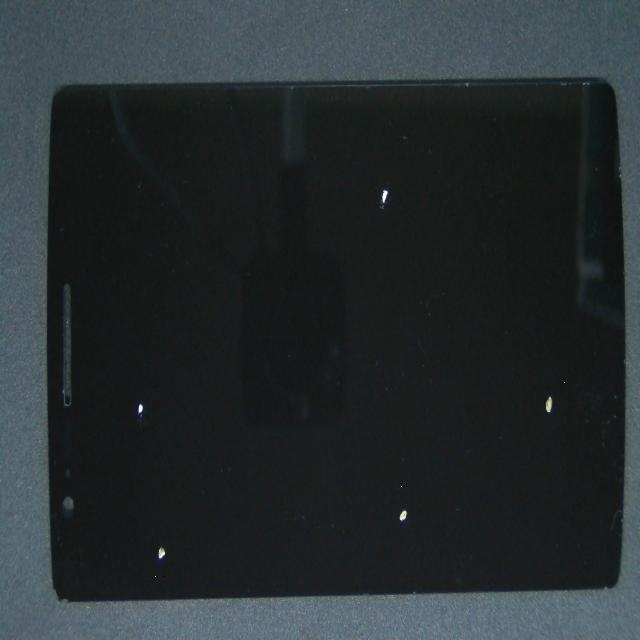stain: (181, 198, 582, 640), (239, 188, 640, 622), (55, 193, 200, 640), (88, 218, 230, 640), (212, 92, 595, 244)
